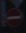No entry: (5, 5, 21, 28)
